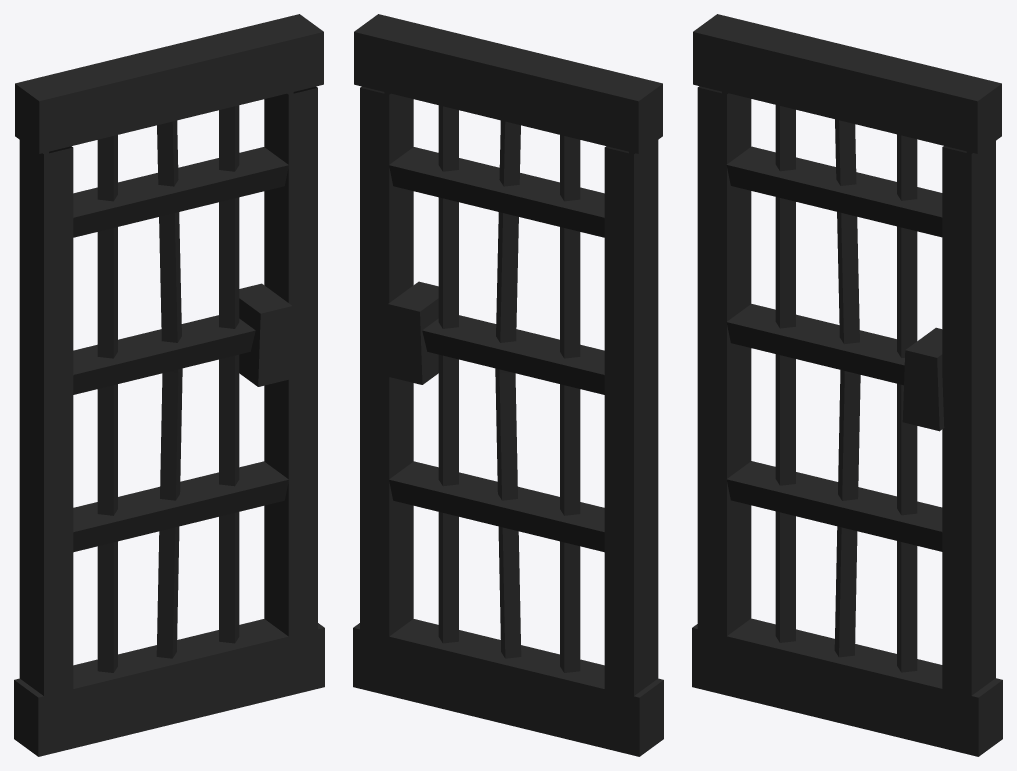
File: door-prison.glb
3 renders of one model, left to right at view 1: azimuth 30°, elevation 25°; view 2: azimuth 150°, elevation 25°; view 3: azimuth 330°, elevation 25°, orthographic.
Parts seen in each view (by area): view 1: door-prison; view 2: door-prison; view 3: door-prison.
Boxes of the visible parts, x1,y1,x2,y2 form: door-prison: (14,14,324,756); door-prison: (353,14,663,756); door-prison: (692,14,1002,756).
Size of the model in its own units: 0.9917 by 2.17 by 0.1843.
Materials: 1 (1 with a texture image).
